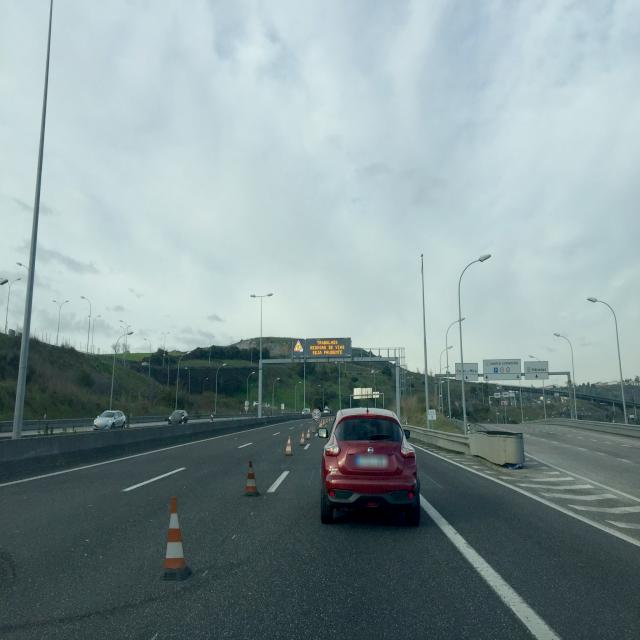car: (318, 407, 421, 525), (93, 410, 127, 429), (167, 410, 189, 424)
